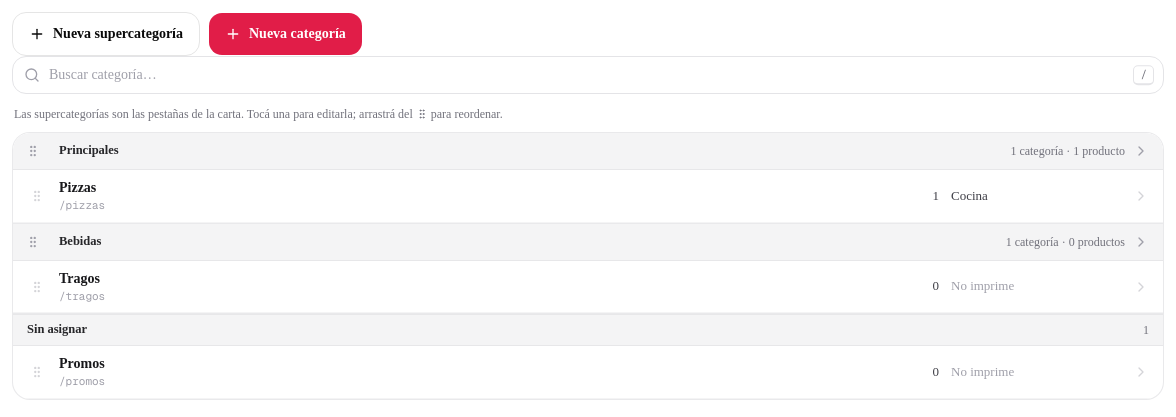
CategoriasTab (spec 205 · D7) › la búsqueda esconde lo que no matchea, sin romper agrupado
The width and height of the screenshot is (1176, 417).
Type "trag" into the search field with placeholder "Buscar categoría…" at [588, 75], box top-left (12, 56), bottom-right (1164, 94)
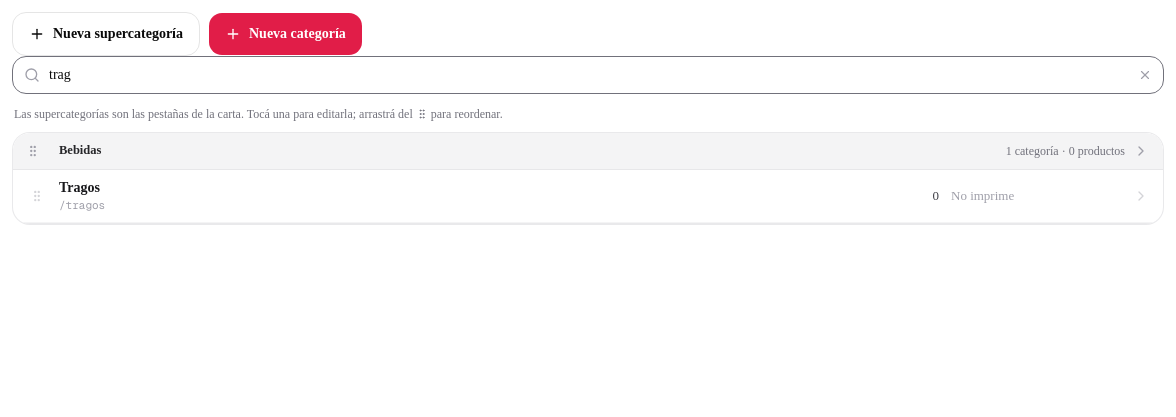
Expected: the text "Tragos" is shown, top-left (59, 180), bottom-right (100, 195)
Result: the text "Pizzas" is gone
Result: the button "Principales" is gone
